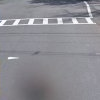crosswalk: (0, 16, 94, 25)
